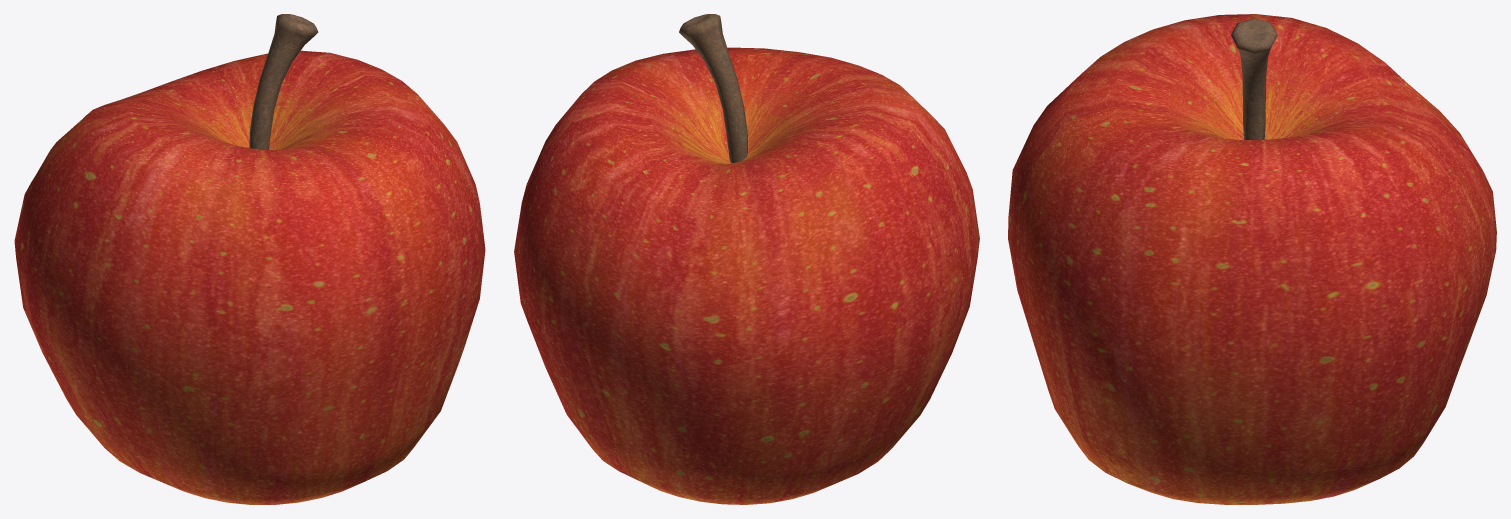
The model's file is apple.obj.
3 renders of one model, left to right at view 1: azimuth 30°, elevation 25°; view 2: azimuth 150°, elevation 25°; view 3: azimuth 270°, elevation 25°, orthographic. The views are drawn at different scales.
Visible parts, largest first — view 1: Sphere, Cube_Cube.001; view 2: Sphere, Cube_Cube.001; view 3: Sphere, Cube_Cube.001.
Part boxes in pixels (bbox=[...]): Sphere: bbox=[14, 50, 485, 504]; Cube_Cube.001: bbox=[249, 14, 318, 149]; Sphere: bbox=[514, 47, 979, 504]; Cube_Cube.001: bbox=[679, 14, 747, 163]; Sphere: bbox=[1008, 14, 1496, 504]; Cube_Cube.001: bbox=[1231, 18, 1277, 139].
Size of what is drawn, in the model's own units: 1.8 by 1.83 by 1.8.
Materials: 2 (2 with a texture image).
